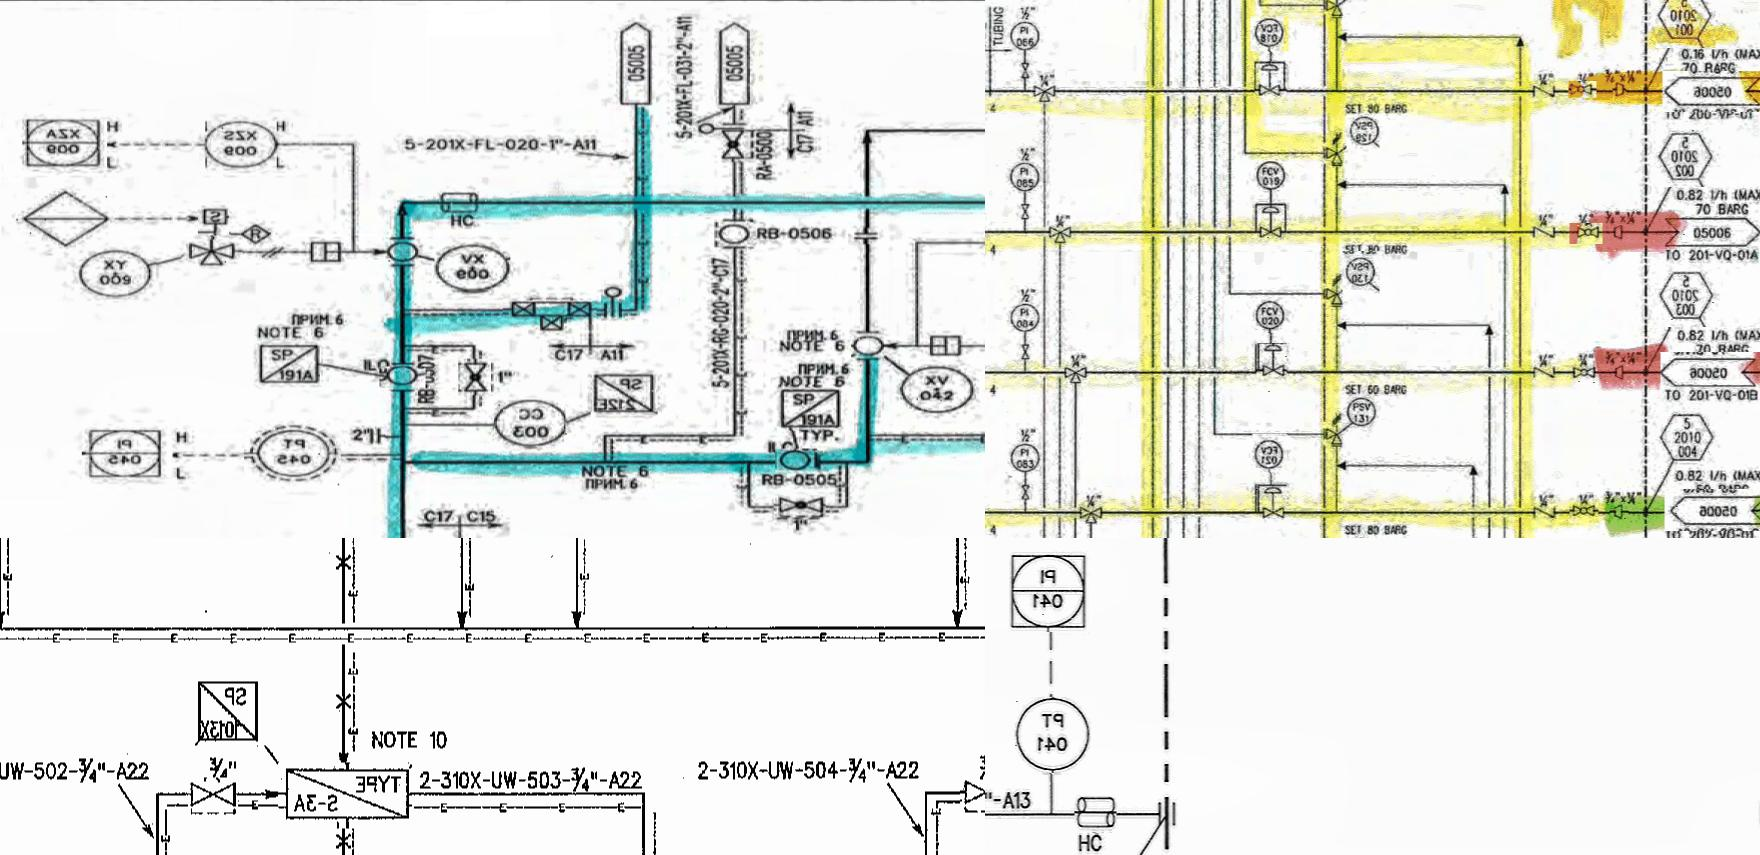2 WAY VALVE: (503, 300, 597, 333)
3 WAY BALL VALVE: (1044, 222, 1076, 250), (1074, 502, 1104, 526), (1060, 362, 1090, 386), (1032, 80, 1060, 104)
3 WAY GENERAL VALVE: (183, 240, 244, 270)
ANGLE RELIEF VALVE: (1320, 126, 1347, 174), (1322, 265, 1346, 316), (1321, 414, 1349, 453), (1320, 0, 1342, 28)
BLIND SPADE OPEN: (603, 285, 629, 321)
CONCENTRIC REDUCER: (1606, 361, 1630, 386), (1610, 223, 1629, 247), (1610, 503, 1629, 525), (1613, 83, 1628, 104)
DCS ACCESSIBLE: (1007, 553, 1091, 634), (83, 424, 174, 481), (22, 117, 107, 171)
DIAPHRAGM ACTUATED VALVE: (1257, 343, 1287, 393), (1255, 62, 1286, 105), (1257, 201, 1283, 252), (1257, 485, 1287, 526)
DUPLEX RECEPTACLE: (1074, 798, 1116, 835)
DUPLEX STRAINER: (431, 189, 489, 217)
END FLANGED: (850, 229, 888, 245), (367, 423, 387, 450)
FIELD INSTRUMENT: (1010, 698, 1096, 774), (245, 421, 341, 486), (896, 366, 979, 416), (74, 250, 156, 298), (436, 242, 513, 292), (205, 121, 277, 171), (1342, 251, 1379, 294), (1253, 433, 1287, 474), (1252, 17, 1290, 53), (1007, 19, 1045, 55), (1252, 156, 1289, 192), (1005, 301, 1043, 334), (1253, 298, 1287, 334), (382, 237, 424, 265), (1009, 440, 1039, 478), (1346, 116, 1379, 149), (1342, 396, 1378, 427), (1007, 160, 1041, 193), (777, 449, 821, 474), (716, 221, 757, 247), (379, 367, 425, 389), (853, 331, 887, 357)
GATE VALVE: (187, 778, 245, 815), (961, 772, 986, 810), (1010, 196, 1035, 224), (1016, 338, 1036, 365), (1015, 56, 1033, 81), (1017, 482, 1035, 505)
GLOBE VALVE: (774, 496, 826, 520), (458, 359, 491, 395), (723, 127, 749, 162)
HARDWIRED INTERLOCK FIELD: (495, 401, 568, 449), (241, 218, 272, 245)
HARDWIRED INTERLOCK PRIMARY.: (18, 189, 117, 247)
NO ACCESS INDICATOR: (1656, 125, 1718, 187), (1656, 405, 1716, 470), (1658, 266, 1715, 329), (1654, 0, 1716, 48)
PIPE CONNECTION FLAG: (1663, 490, 1760, 533), (1663, 71, 1760, 112), (1661, 352, 1760, 389), (1663, 217, 1760, 248)
PLUG VALVE: (1567, 360, 1599, 383), (1569, 223, 1603, 245), (1569, 503, 1598, 525), (1568, 82, 1596, 100)
SPECIAL PIPING ITEM: (278, 762, 413, 828), (195, 675, 269, 747), (777, 384, 852, 430), (255, 339, 326, 385), (592, 370, 659, 416)
SPEED FLOW METER: (199, 204, 231, 237)
